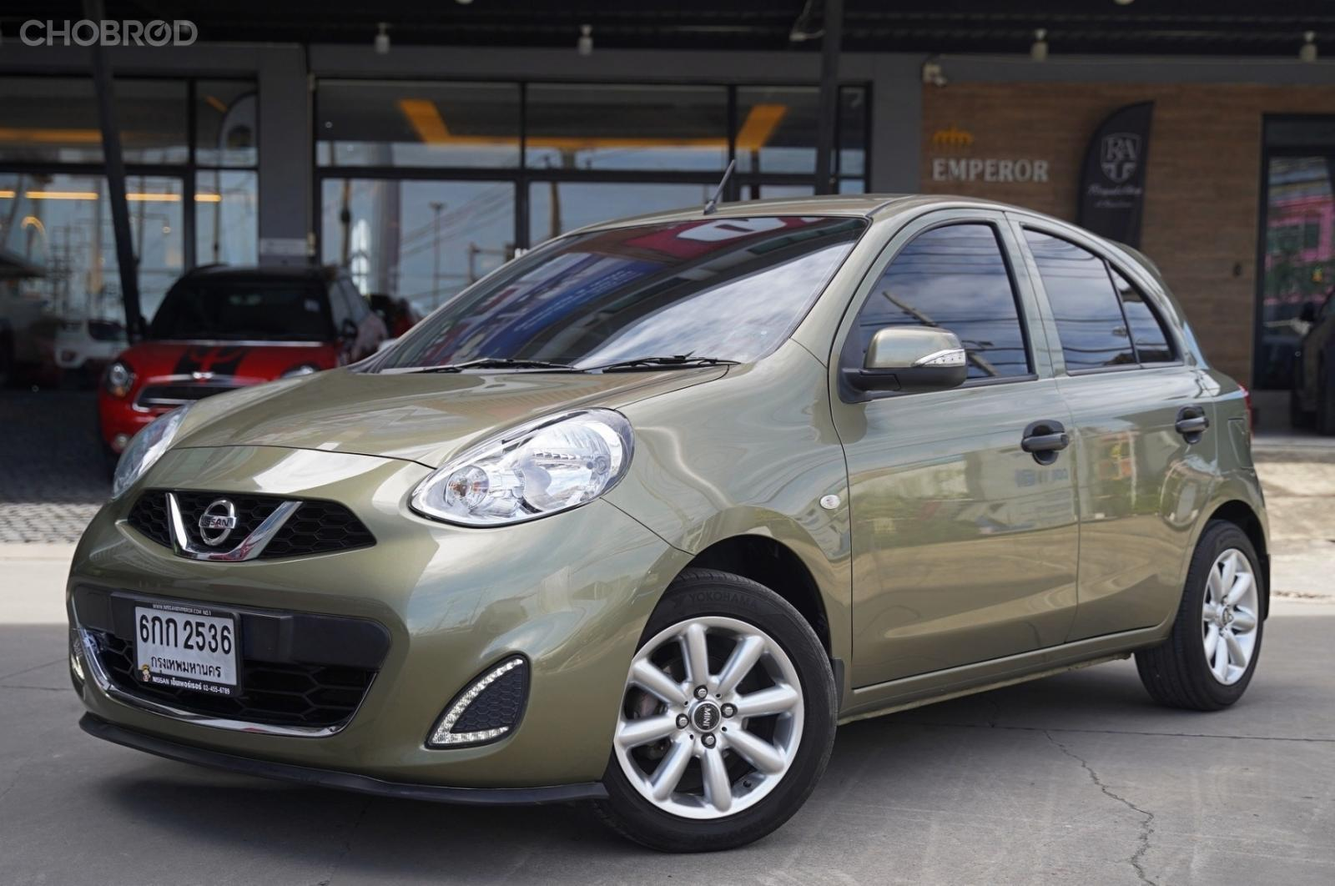license-plate: (120, 590, 248, 712)
